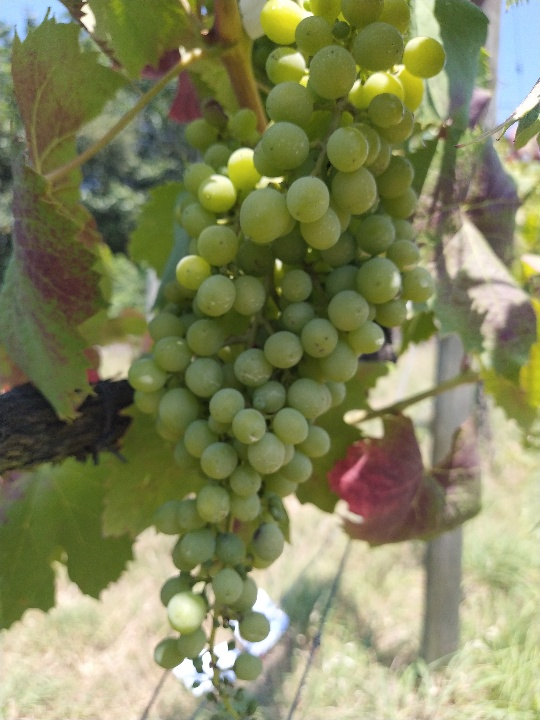grape: (130, 3, 446, 717)
